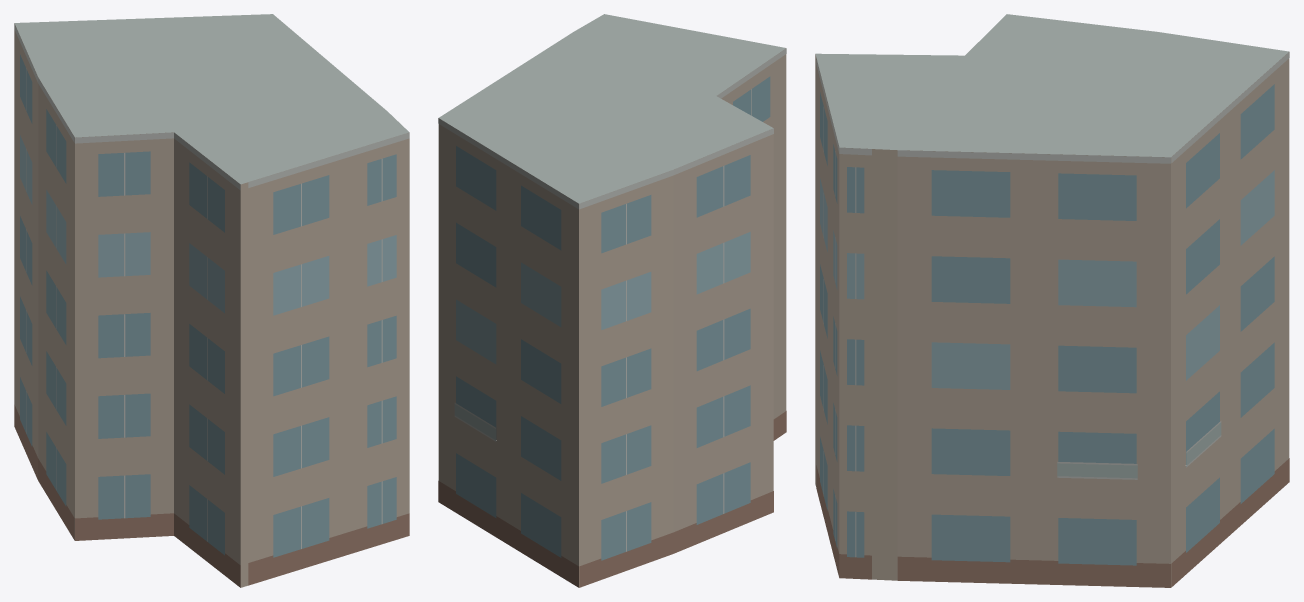
The model's file is survey-upis-32771752.glb.
3 views of the same model, side by side, from view 1: azimuth 30°, elevation 25°; view 2: azimuth 150°, elevation 25°; view 3: azimuth 270°, elevation 25° (orthographic). The views are drawn at different scales.
Parts seen in each view (by area): view 1: survey-upis-32771752.tmp; view 2: survey-upis-32771752.tmp; view 3: survey-upis-32771752.tmp.
Boxes of the visible parts, box(x1,y1,x2,y2) form: survey-upis-32771752.tmp: box(14, 14, 409, 587); survey-upis-32771752.tmp: box(438, 14, 786, 587); survey-upis-32771752.tmp: box(815, 14, 1289, 587).
Size of the model in its own units: 11.57 by 16.2 by 16.17.
